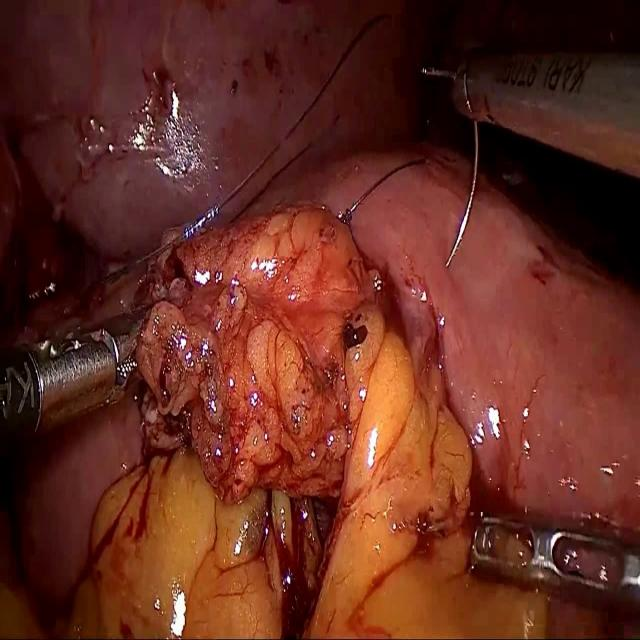surgical-tool: (449, 50, 640, 179), (0, 308, 152, 454), (472, 516, 640, 598)
